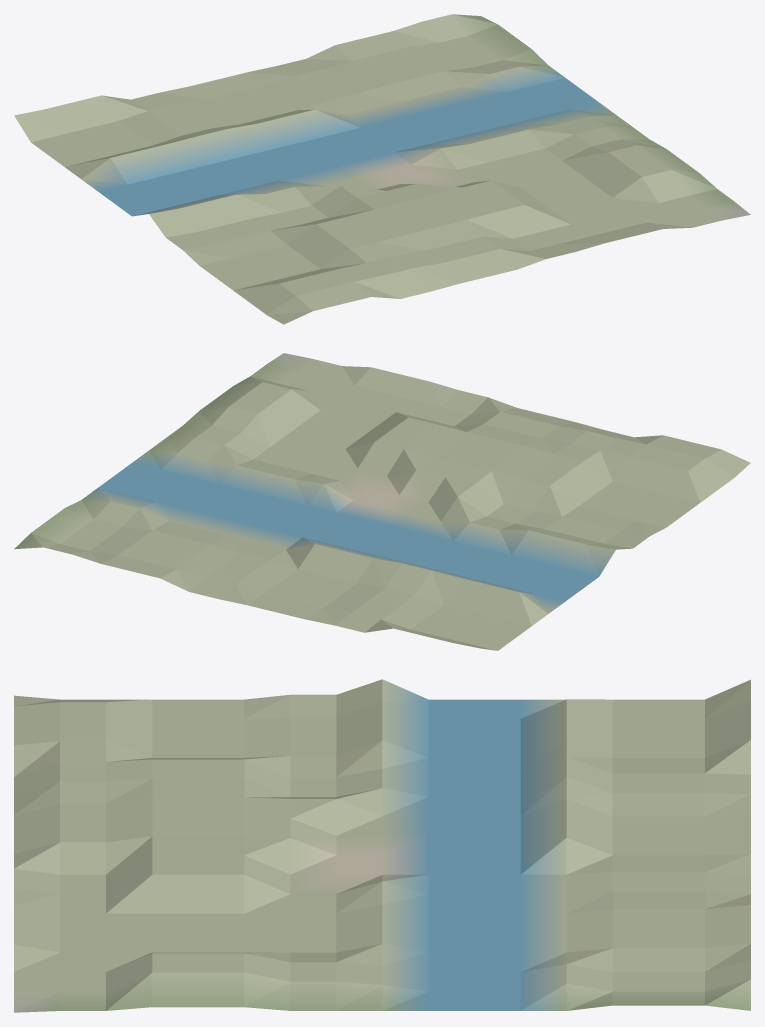
3 views of the same model, one above another, from view 1: azimuth 30°, elevation 25°; view 2: azimuth 150°, elevation 25°; view 3: azimuth 270°, elevation 25° (orthographic). The views are drawn at different scales.
Size of the model in its own units: 32 by 1.05 by 32.
